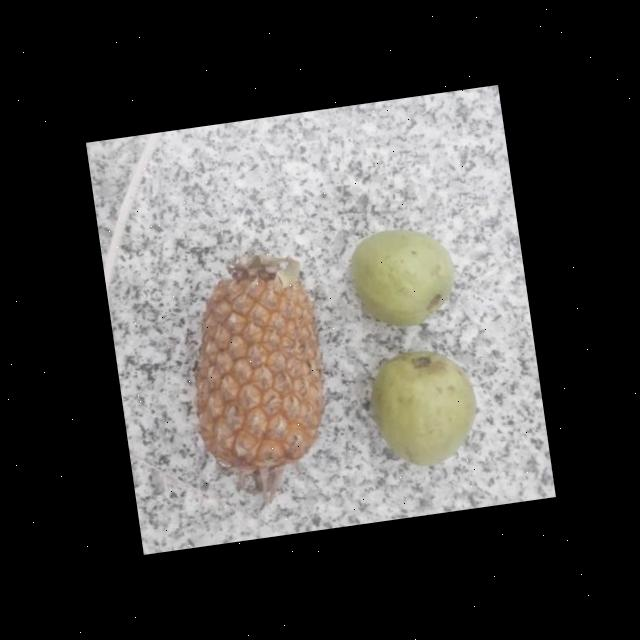guava: (361, 340, 482, 472), (348, 219, 458, 334)
pineapple: (172, 249, 340, 493)
